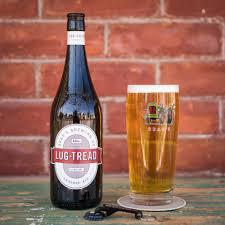beer: (50, 13, 104, 211)
